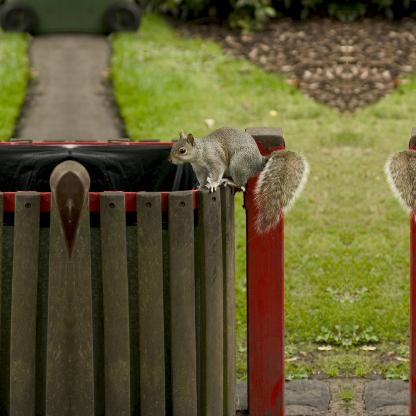Squirrel: (165, 126, 309, 236), (383, 125, 415, 237)
